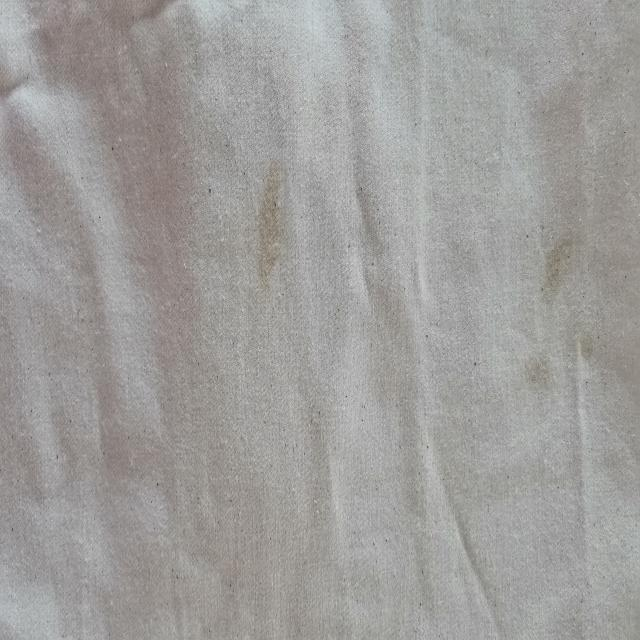taaaches: (252, 151, 294, 311), (540, 231, 582, 297), (518, 344, 552, 421), (578, 325, 600, 366)
